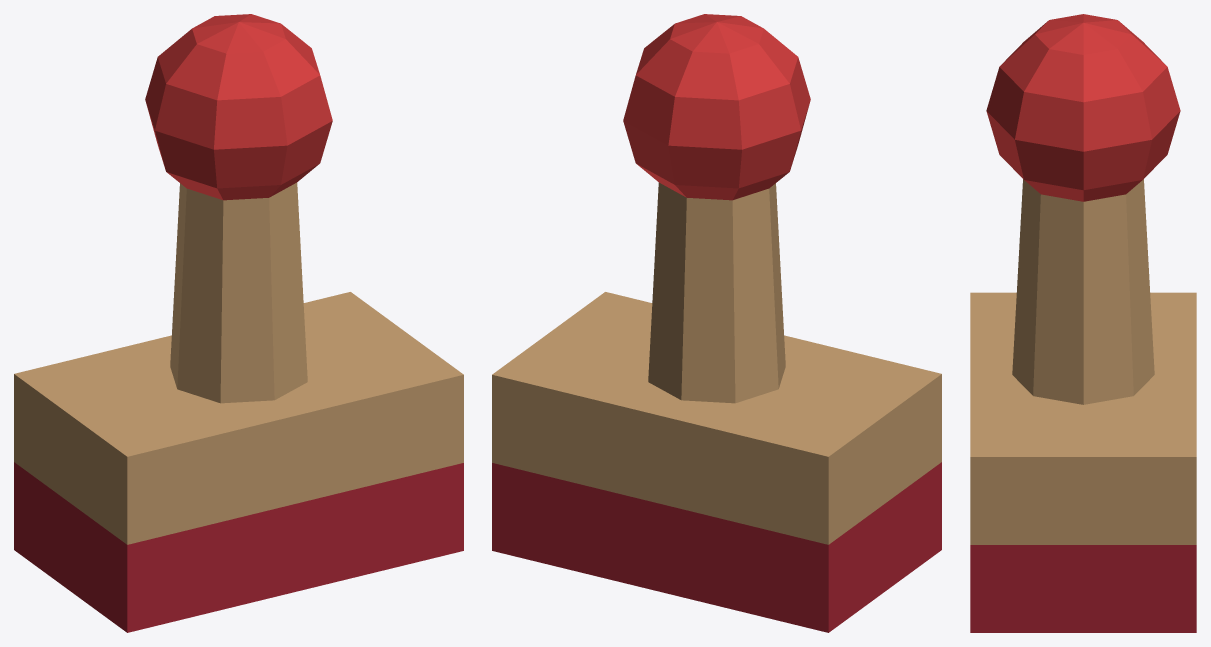
File: fair_valid_stamp.glb
The picture shows the model from 3 angles, left to right: view 1: azimuth 30°, elevation 25°; view 2: azimuth 150°, elevation 25°; view 3: azimuth 270°, elevation 25°; orthographic projection.
Parts seen in each view (by area): view 1: base_fair_wood, block_stamp_rubber, handle_fair_red, handle_fair_wood; view 2: base_fair_wood, block_stamp_rubber, handle_fair_red, handle_fair_wood; view 3: base_fair_wood, handle_fair_red, handle_fair_wood, block_stamp_rubber.
Part boxes in pixels (x1=…): base_fair_wood: x1=14, y1=292, x2=463, y2=544; block_stamp_rubber: x1=14, y1=462, x2=463, y2=632; handle_fair_red: x1=145, y1=14, x2=332, y2=200; handle_fair_wood: x1=170, y1=182, x2=307, y2=403; base_fair_wood: x1=492, y1=292, x2=941, y2=544; block_stamp_rubber: x1=492, y1=462, x2=941, y2=632; handle_fair_red: x1=623, y1=14, x2=810, y2=200; handle_fair_wood: x1=648, y1=182, x2=785, y2=403; base_fair_wood: x1=970, y1=292, x2=1196, y2=544; handle_fair_red: x1=986, y1=14, x2=1180, y2=201; handle_fair_wood: x1=1012, y1=179, x2=1154, y2=404; block_stamp_rubber: x1=970, y1=545, x2=1196, y2=632.
Size of the model in its own units: 0.12 by 0.18 by 0.07.
